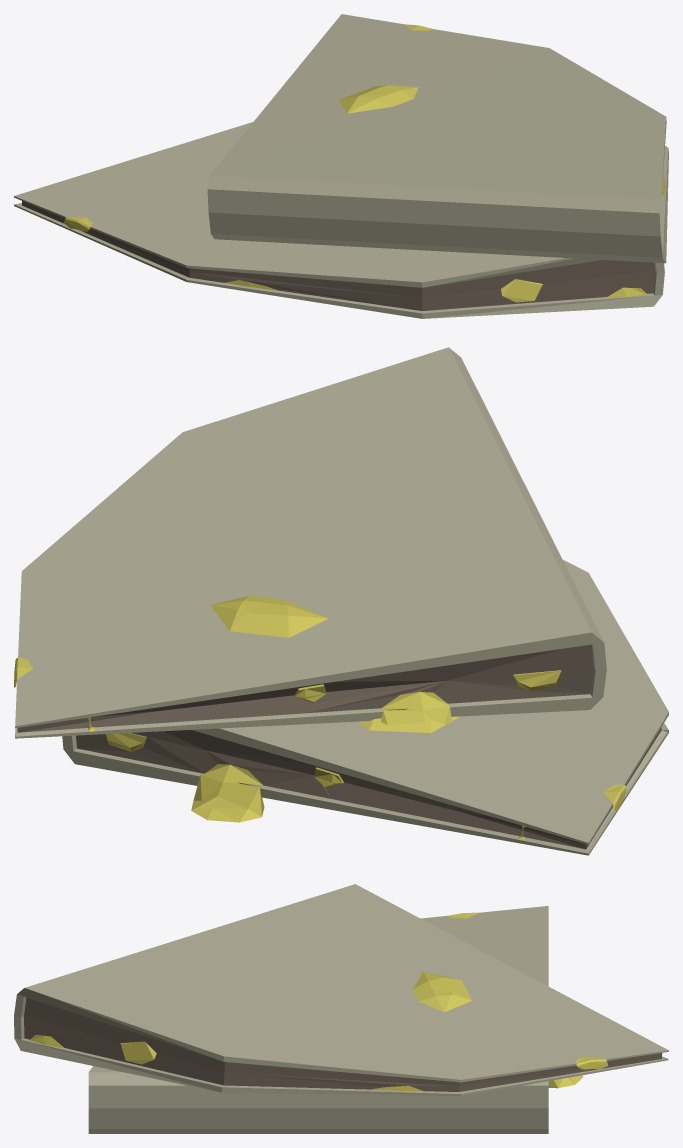
The model's file is Quesadilla1.fbx.
3 views of the same model, one above another, from view 1: azimuth 30°, elevation 25°; view 2: azimuth 150°, elevation 25°; view 3: azimuth 270°, elevation 25° (orthographic). The views are drawn at different scales.
Visible parts, largest first — view 1: pasted__Quesadilla1; view 2: pasted__Quesadilla1; view 3: pasted__Quesadilla1.
Boxes of the visible parts, x1,y1,x2,y2 form: pasted__Quesadilla1: (14, 14, 668, 318); pasted__Quesadilla1: (14, 347, 668, 855); pasted__Quesadilla1: (14, 884, 668, 1133).
Bounding box in the file's own units: 1.2 × 0.3239 × 1.42.
